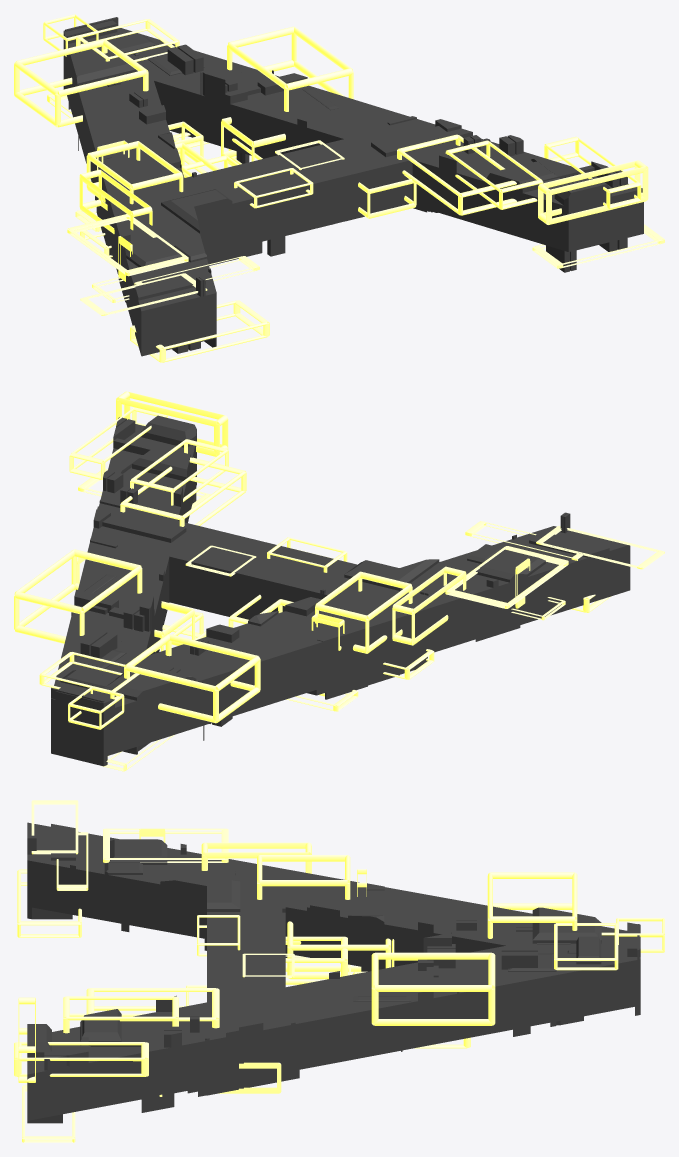
3 renders of one model, top to bottom at view 1: azimuth 30°, elevation 25°; view 2: azimuth 150°, elevation 25°; view 3: azimuth 270°, elevation 25°, orthographic. The views are drawn at different scales.
Parts seen in each view (by area): view 1: Letter; view 2: Letter; view 3: Letter.
Boxes of the visible parts, x1,y1,x2,y2 form: Letter: [14, 14, 664, 362]; Letter: [14, 391, 664, 771]; Letter: [14, 800, 664, 1142].
Bounding box in the file's own units: 5.11 × 0.8265 × 5.02.
